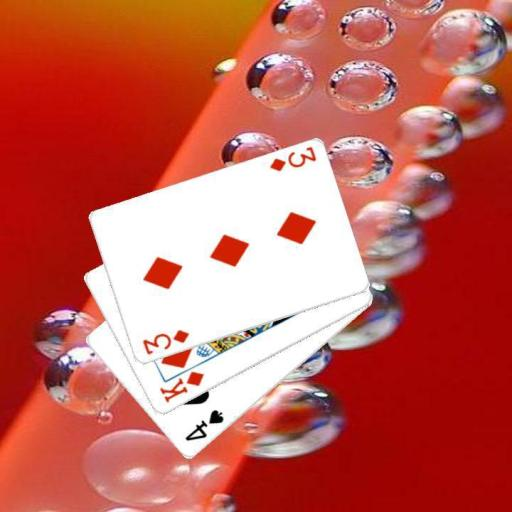card-corner: (156, 368, 206, 405), (138, 326, 190, 357), (182, 407, 226, 443), (266, 144, 318, 174)
